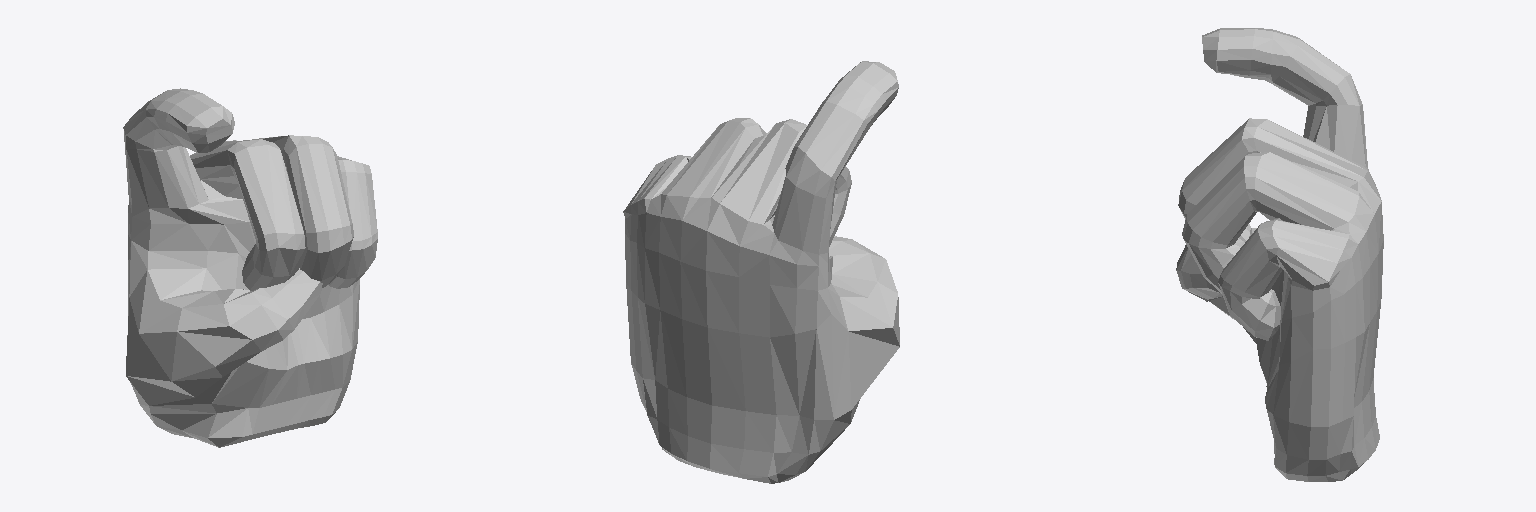
File: curvado_x.obj
The picture shows the model from 3 angles: view 1: azimuth 30°, elevation 25°; view 2: azimuth 150°, elevation 25°; view 3: azimuth 270°, elevation 25°; orthographic projection.
Parts seen in each view (by area): view 1: Box02; view 2: Box02; view 3: Box02.
Boxes of the visible parts, box(x1,y1,x2,y2) form: Box02: box(123, 88, 377, 447); Box02: box(623, 61, 899, 483); Box02: box(1176, 28, 1383, 481).
Size of the model in its own units: 132 by 196 by 97.83.